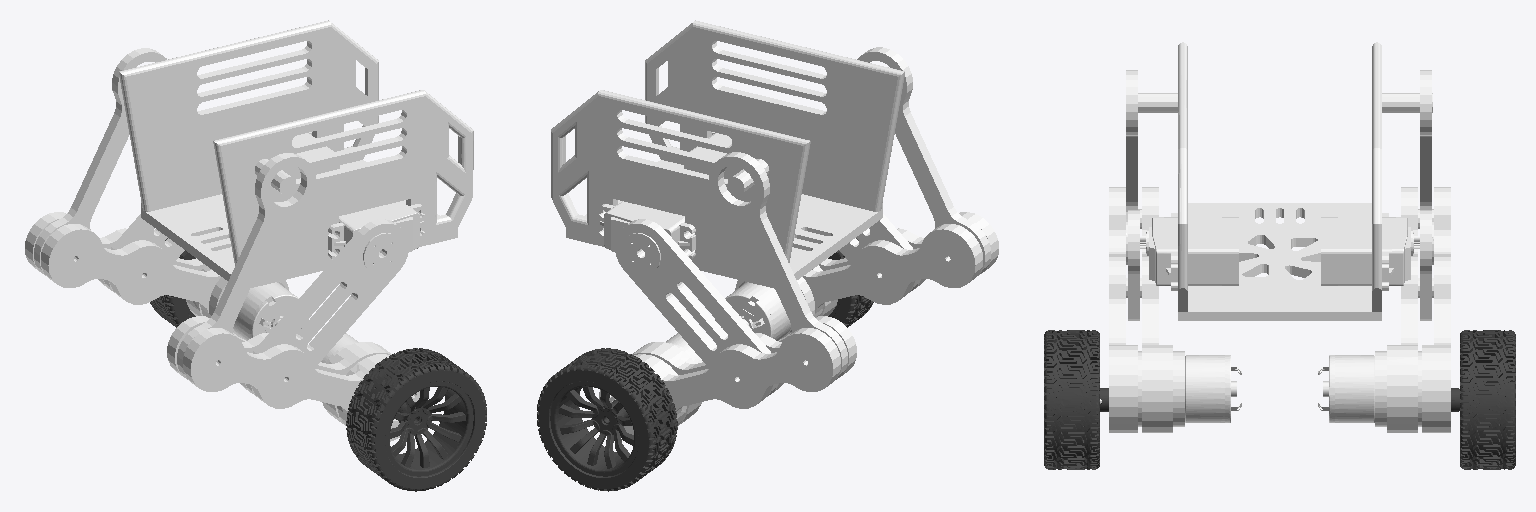
robot.urdf — robotcanbang:
<?xml version="1.0" encoding="utf-8"?>
<!-- This URDF was automatically created by SolidWorks to URDF Exporter! Originally created by Stephen Brawner (brawner@gmail.com) 
     Commit Version: 1.6.0-4-g7f85cfe  Build Version: 1.6.7995.38578
     For more information, please see http://wiki.ros.org/sw_urdf_exporter -->
<!-- Modified for Gazebo simulation with LQR balance control -->
<robot name="robotcanbang">
  
  <!-- Base Link - Main Body -->
  <link name="base_link">
    <inertial>
      <origin xyz="-0.0248084517338711 0.00310273352138043 0.0968723741633463" rpy="0 0 0" />
      <mass value="0.406163631736865" />
      <inertia
        ixx="0.000461069610454791"
        ixy="-2.8857514269128E-10"
        ixz="7.01700491225405E-05"
        iyy="0.000640210694979862"
        iyz="1.7426442216153E-09"
        izz="0.000717621199840196" />
    </inertial>
    <visual>
      <origin xyz="0 0 0" rpy="0 0 0" />
      <geometry>
        <mesh filename="package://robotcanbang_1/meshes/base_link.STL" />
      </geometry>
      <material name="">
        <color rgba="1 1 1 1" />
      </material>
    </visual>
    <collision>
      <origin xyz="0 0 0" rpy="0 0 0" />
      <geometry>
        <mesh filename="package://robotcanbang_1/meshes/base_link.STL" />
      </geometry>
    </collision>
  </link>

  <!-- Right Wheel -->
  <link name="right_wheel">
    <inertial>
      <origin xyz="-5.34068539392862E-10 6.0839499302183E-10 0.00471009224884603" rpy="0 0 0" />
      <mass value="0.035174827698133" />
      <inertia
        ixx="1.52368231801454E-05"
        ixy="3.9005394908129E-10"
        ixz="-4.70997363357401E-14"
        iyy="1.52374393452278E-05"
        iyz="6.5076142600852E-14"
        izz="2.57858861550236E-05" />
    </inertial>
    <visual>
      <origin xyz="0 0 0" rpy="0 0 0" />
      <geometry>
        <mesh filename="package://robotcanbang_1/meshes/right_wheel.STL" />
      </geometry>
      <material name="">
        <color rgba="0.333333333333333 0.333333333333333 0.333333333333333 1" />
      </material>
    </visual>
    <collision>
      <origin xyz="0 0 0" rpy="0 0 0" />
      <geometry>
        <mesh filename="package://robotcanbang_1/meshes/right_wheel.STL" />
      </geometry>
    </collision>
  </link>

  <joint name="right_wheel_joint" type="continuous">
    <origin xyz="0 0.10003 0.0325" rpy="-1.5708 0 0" />
    <parent link="base_link" />
    <child link="right_wheel" />
    <axis xyz="0 0 1" />
    <limit effort="100" velocity="100" />
  </joint>

  <!-- Left Wheel -->
  <link name="left_wheel">
    <inertial>
      <origin xyz="1.11657100232421E-10 -8.01833147405159E-10 0.00153990775115411" rpy="0 0 0" />
      <mass value="0.0351748276981331" />
      <inertia
        ixx="1.52375621811932E-05"
        ixy="-2.47721973242754E-10"
        ixz="-1.84932170636715E-14"
        iyy="1.52367003441801E-05"
        iyz="7.81747652153319E-14"
        izz="2.57858861550237E-05" />
    </inertial>
    <visual>
      <origin xyz="0 0 0" rpy="0 0 0" />
      <geometry>
        <mesh filename="package://robotcanbang_1/meshes/left_wheel.STL" />
      </geometry>
      <material name="">
        <color rgba="0.333333333333333 0.333333333333333 0.333333333333333 1" />
      </material>
    </visual>
    <collision>
      <origin xyz="0 0 0" rpy="0 0 0" />
      <geometry>
        <mesh filename="package://robotcanbang_1/meshes/left_wheel.STL" />
      </geometry>
    </collision>
  </link>

  <joint name="left_wheel_joint" type="continuous">
    <origin xyz="0 -0.10003 0.0325" rpy="-1.5708 0 0" />
    <parent link="base_link" />
    <child link="left_wheel" />
    <axis xyz="0 0 -1" />
    <limit effort="100" velocity="100" />
  </joint>

  <!-- ==================== GAZEBO ELEMENTS ==================== -->

  <!-- Gazebo Material Colors -->
  <gazebo reference="base_link">
    <material>Gazebo/White</material>
  </gazebo>
  <gazebo reference="right_wheel">
    <material>Gazebo/DarkGrey</material>
    <mu1>1.0</mu1>
    <mu2>1.0</mu2>
    <kp>1000000.0</kp>
    <kd>100.0</kd>
  </gazebo>
  <gazebo reference="left_wheel">
    <material>Gazebo/DarkGrey</material>
    <mu1>1.0</mu1>
    <mu2>1.0</mu2>
    <kp>1000000.0</kp>
    <kd>100.0</kd>
  </gazebo>

  <!-- IMU Sensor Plugin -->
  <gazebo reference="base_link">
    <sensor name="imu_sensor" type="imu">
      <always_on>true</always_on>
      <update_rate>100</update_rate>
      <visualize>true</visualize>
      <topic>imu</topic>
      <plugin filename="libgazebo_ros_imu_sensor.so" name="imu_plugin">
        <topicName>imu/data</topicName>
        <bodyName>base_link</bodyName>
        <updateRateHZ>100.0</updateRateHZ>
        <gaussianNoise>0.0</gaussianNoise>
        <xyzOffset>0 0 0</xyzOffset>
        <rpyOffset>0 0 0</rpyOffset>
        <frameName>base_link</frameName>
      </plugin>
      <pose>0 0 0.1 0 0 0</pose>
    </sensor>
  </gazebo>

  <!-- Gazebo ROS Control Plugin -->
  <gazebo>
    <plugin name="gazebo_ros_control" filename="libgazebo_ros_control.so">
      <robotNamespace>/</robotNamespace>
      <robotSimType>gazebo_ros_control/DefaultRobotHWSim</robotSimType>
    </plugin>
  </gazebo>

  <!-- Transmissions for ROS Control -->
  <transmission name="right_wheel_trans">
    <type>transmission_interface/SimpleTransmission</type>
    <joint name="right_wheel_joint">
      <hardwareInterface>hardware_interface/VelocityJointInterface</hardwareInterface>
    </joint>
    <actuator name="right_wheel_motor">
      <mechanicalReduction>1</mechanicalReduction>
      <hardwareInterface>hardware_interface/VelocityJointInterface</hardwareInterface>
    </actuator>
  </transmission>

  <transmission name="left_wheel_trans">
    <type>transmission_interface/SimpleTransmission</type>
    <joint name="left_wheel_joint">
      <hardwareInterface>hardware_interface/VelocityJointInterface</hardwareInterface>
    </joint>
    <actuator name="left_wheel_motor">
      <mechanicalReduction>1</mechanicalReduction>
      <hardwareInterface>hardware_interface/VelocityJointInterface</hardwareInterface>
    </actuator>
  </transmission>

</robot>

--- What the picture shows (computed from the rendered views, not written in the file) ---
3 views of the same robot in one strip: view 1: azimuth 30°, elevation 25°; view 2: azimuth 150°, elevation 25°; view 3: azimuth 270°, elevation 25° (orthographic).
Robot: robotcanbang — 3 links, 2 joints (2 continuous); root link base_link; default pose: all joints at 0.
Links seen in each view (by area): view 1: base_link, left_wheel, right_wheel; view 2: base_link, right_wheel, left_wheel; view 3: base_link, right_wheel, left_wheel.
Boxes of the visible links, x1,y1,x2,y2 form: base_link: (25,20,473,441); left_wheel: (346,348,486,491); right_wheel: (150,238,195,327); base_link: (551,20,998,434); right_wheel: (537,348,677,491); left_wheel: (828,238,873,327); base_link: (1100,42,1450,432); right_wheel: (1451,330,1515,469); left_wheel: (1044,330,1108,469).
Size in the robot's own frame: 0.1843 by 0.2303 by 0.1866 metres.
Meshes: 3 distinct files referenced, 3 mesh visuals loaded (3 binary STL).
